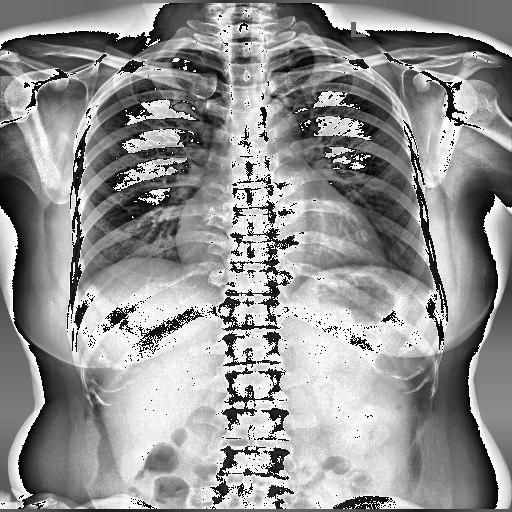0- Aortic enlargement: (222, 106, 300, 164)
3- Cardiomegaly: (172, 206, 391, 279), (172, 215, 394, 278), (171, 208, 387, 270)
